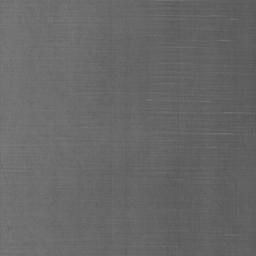Waist folding: (162, 130, 256, 136), (164, 110, 256, 116), (146, 98, 210, 104), (196, 14, 236, 22), (0, 252, 47, 254), (157, 0, 185, 3)
